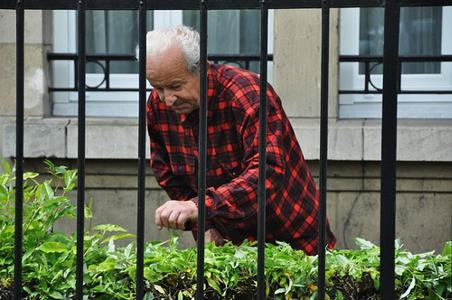person: (136, 24, 340, 256)
